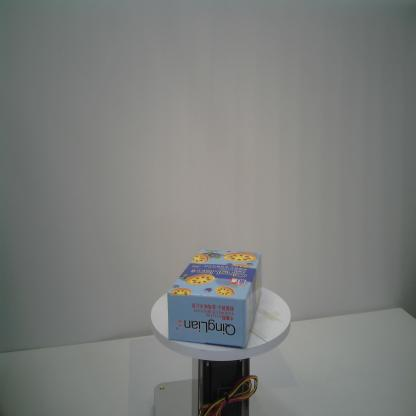Dessert: (167, 248, 264, 350)
